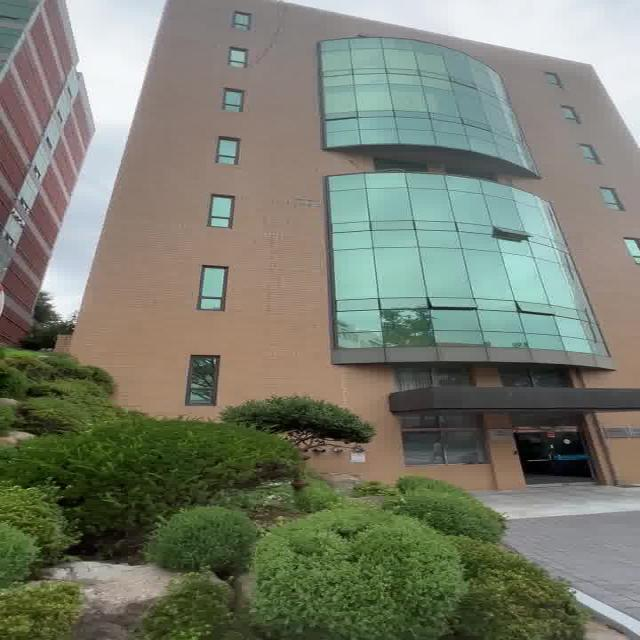building: (156, 1, 640, 410)
